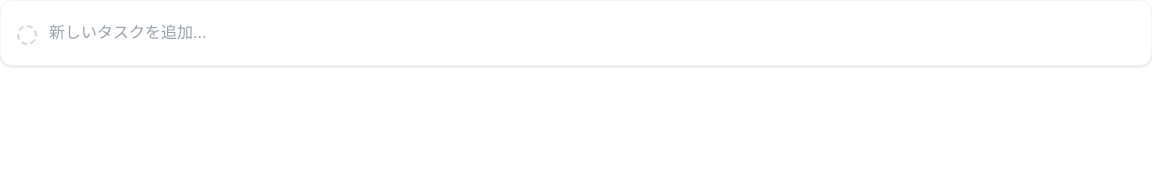
Test case: TodoForm › フォーム送信時にonSubmitが呼ばれ、フォームがリセットされる
In the field with placeholder "新しいタスクを追加...": (592, 33) x1=49 y1=17 x2=1135 y2=49, type "新しいタスク"
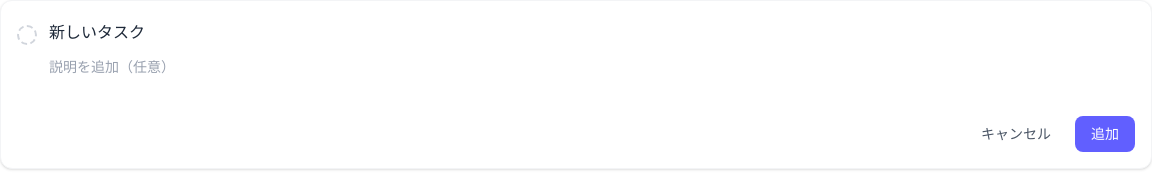
In the text box with placeholder "説明を追加（任意）": (592, 77) x1=49 y1=53 x2=1135 y2=101, type "タスクの説明"
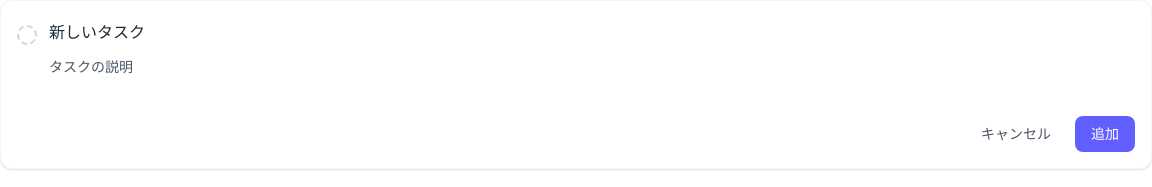
Click the button "追加": (1105, 134) x1=1075 y1=116 x2=1135 y2=152
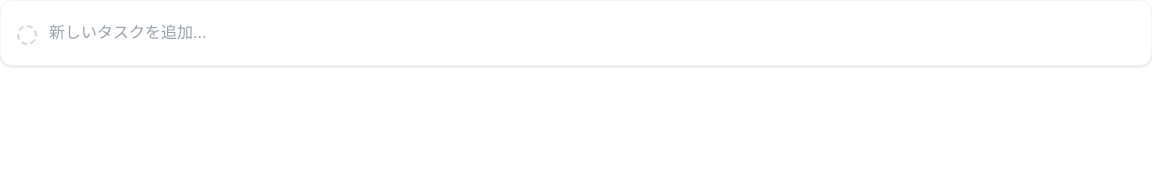
Now the field with placeholder "新しいタスクを追加..." is empty, box x1=49 y1=17 x2=1135 y2=49
